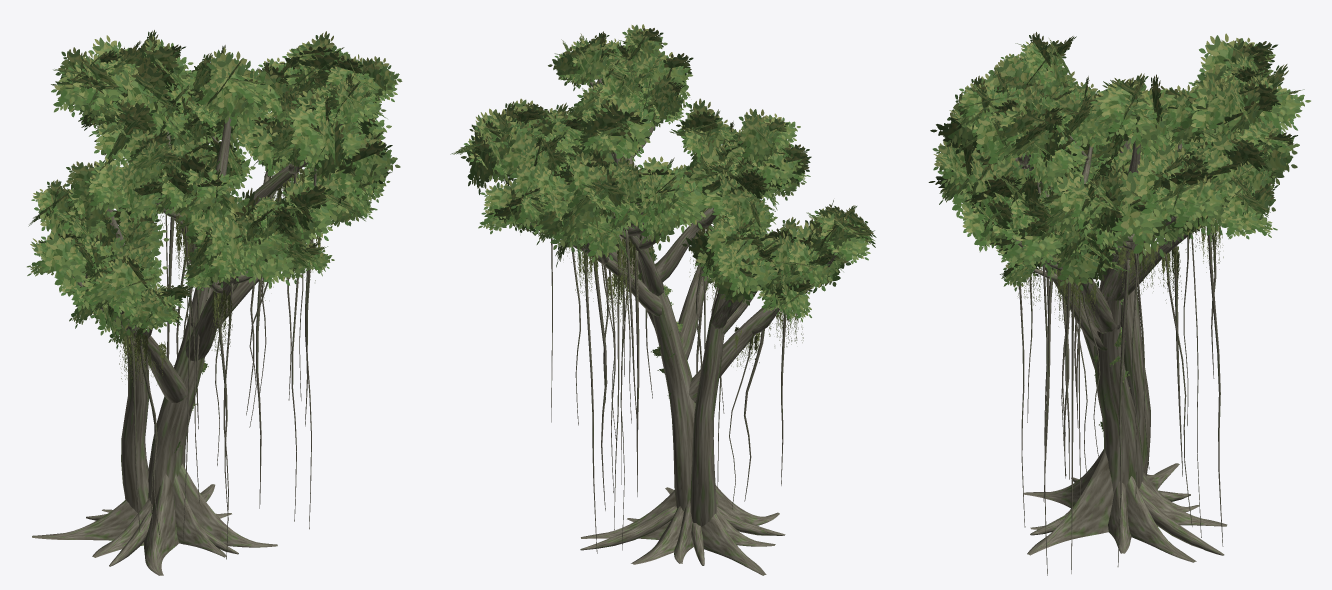
Rendered from ancient-tree-2.glb.
3 views of the same model, side by side, from view 1: azimuth 30°, elevation 25°; view 2: azimuth 150°, elevation 25°; view 3: azimuth 270°, elevation 25° (orthographic). The views are drawn at different scales.
Parts seen in each view (by area): view 1: Wet canopy and moss, Old wood and air roots; view 2: Wet canopy and moss, Old wood and air roots; view 3: Wet canopy and moss, Old wood and air roots.
Part boxes in pixels (left/top/right/bottom): Wet canopy and moss: left=27, top=30, right=402, bottom=453; Old wood and air roots: left=32, top=116, right=342, bottom=575; Wet canopy and moss: left=450, top=24, right=876, bottom=398; Old wood and air roots: left=511, top=74, right=837, bottom=575; Wet canopy and moss: left=928, top=32, right=1310, bottom=431; Old wood and air roots: left=1003, top=136, right=1227, bottom=575.
Size of the model in its own units: 40 by 45 by 32.05.
Materials: 2 (2 with a texture image).
